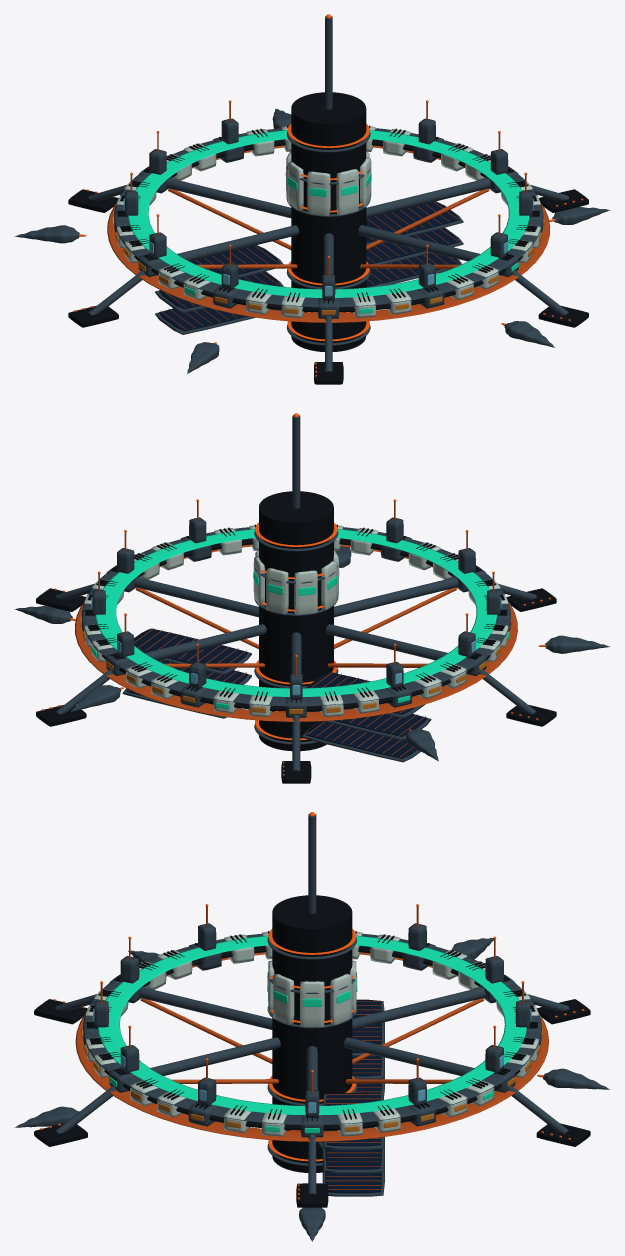
Rendered from ember-dock.obj.
The picture shows the model from 3 angles, top to bottom: view 1: azimuth 30°, elevation 25°; view 2: azimuth 150°, elevation 25°; view 3: azimuth 270°, elevation 25°; orthographic projection. The views are drawn at different scales.
Parts seen in each view (by area): view 1: cylinder_part_398, machined-collar_part_355, machined-collar_part_354, machined-collar_part_353, beveled-plate_part_339, cylinder_part_390, cylinder_part_386, cylinder_part_396, cylinder_part_392, machined-collar_part_352, beveled-plate_part_325, beveled-plate_part_311 (+20 smaller); view 2: cylinder_part_398, machined-collar_part_355, machined-collar_part_354, machined-collar_part_353, beveled-plate_part_339, beveled-plate_part_269, cylinder_part_386, cylinder_part_394, cylinder_part_388, cylinder_part_392, machined-collar_part_352, beveled-plate_part_283 (+18 smaller); view 3: cylinder_part_398, machined-collar_part_355, machined-collar_part_354, machined-collar_part_353, cylinder_part_394, cylinder_part_390, machined-collar_part_352, cylinder_part_388, cylinder_part_396, beveled-plate_part_311, beveled-plate_part_325, beveled-plate_part_339 (+17 smaller).
Boxes of the visible parts, <box> form: cylinder_part_398: <box>291,92,366,351</box>; machined-collar_part_355: <box>127,130,529,297</box>; machined-collar_part_354: <box>107,145,550,322</box>; machined-collar_part_353: <box>114,128,543,307</box>; beveled-plate_part_339: <box>366,201,459,242</box>; cylinder_part_390: <box>166,178,291,218</box>; cylinder_part_386: <box>366,178,490,218</box>; cylinder_part_396: <box>358,225,479,261</box>; cylinder_part_392: <box>177,225,299,261</box>; machined-collar_part_352: <box>123,139,533,312</box>; beveled-plate_part_325: <box>366,228,459,264</box>; beveled-plate_part_311: <box>366,253,459,286</box>; cylinder_part_398: <box>259,491,333,751</box>; machined-collar_part_355: <box>95,529,497,696</box>; machined-collar_part_354: <box>74,544,517,721</box>; machined-collar_part_353: <box>81,527,510,706</box>; beveled-plate_part_339: <box>134,628,248,671</box>; beveled-plate_part_269: <box>306,721,416,758</box>; cylinder_part_386: <box>134,577,258,617</box>; cylinder_part_394: <box>334,577,458,617</box>; cylinder_part_388: <box>145,624,266,660</box>; cylinder_part_392: <box>326,624,447,660</box>; machined-collar_part_352: <box>91,538,501,711</box>; beveled-plate_part_283: <box>307,708,427,736</box>; cylinder_part_398: <box>272,895,352,1172</box>; machined-collar_part_355: <box>97,935,526,1115</box>; machined-collar_part_354: <box>75,952,548,1141</box>; machined-collar_part_353: <box>83,933,541,1125</box>; cylinder_part_394: <box>139,987,272,1029</box>; cylinder_part_390: <box>352,987,485,1029</box>; machined-collar_part_352: <box>104,945,520,1130</box>; cylinder_part_388: <box>344,1037,474,1075</box>; cylinder_part_396: <box>150,1037,280,1075</box>; beveled-plate_part_311: <box>325,1172,381,1193</box>; beveled-plate_part_325: <box>325,1149,381,1169</box>; beveled-plate_part_339: <box>325,1093,381,1146</box>.
Size of the model in its own units: 19.16 by 10.99 by 17.29.
